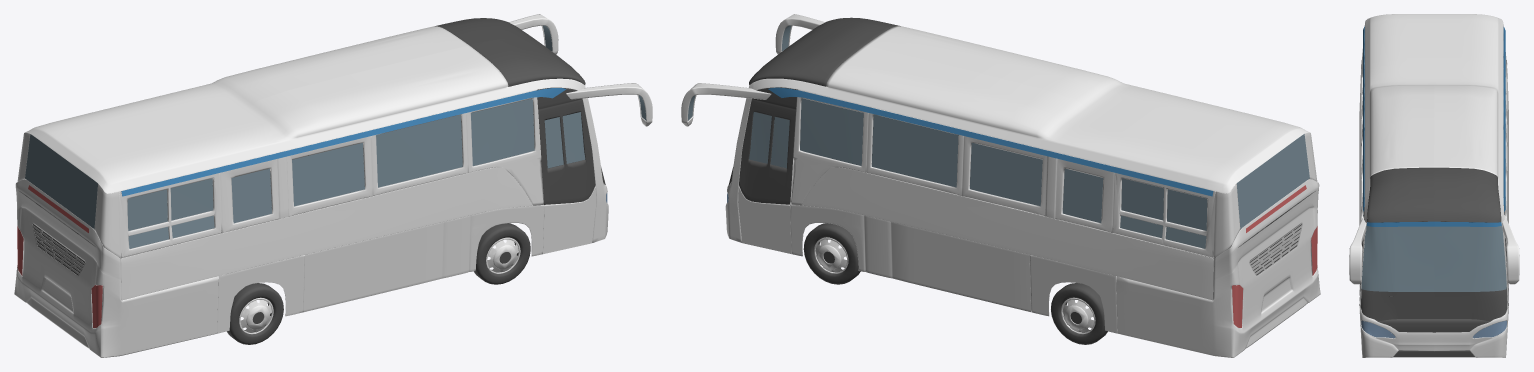
Rendered from TOUR.glb.
The picture shows the model from 3 angles, left to right: view 1: azimuth 30°, elevation 25°; view 2: azimuth 150°, elevation 25°; view 3: azimuth 270°, elevation 25°; orthographic projection. The views are drawn at different scales.
Parts seen in each view (by area): view 1: body, M_白色金属外框架001.007; view 2: body, M_白色金属外框架001.007; view 3: body, M_白色金属外框架001.007.
Part boxes in pixels (x1,y1,x2,y2): body: [14, 14, 652, 357]; M_白色金属外框架001.007: [17, 18, 646, 344]; body: [681, 14, 1320, 357]; M_白色金属外框架001.007: [688, 17, 1317, 344]; body: [1349, 14, 1519, 357]; M_白色金属外框架001.007: [1359, 26, 1508, 357].
Bounding box in the file's own units: 9.58 × 3.45 × 3.12.
